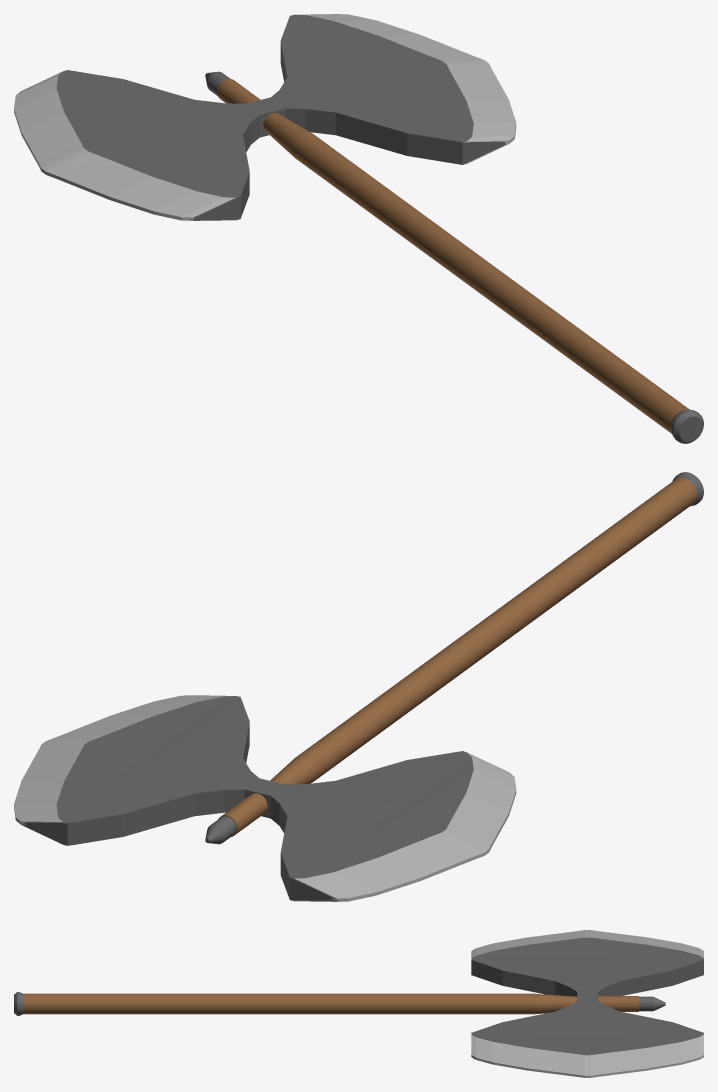
File: Axe.dae
3 views of the same model, one above another, from view 1: azimuth 30°, elevation 25°; view 2: azimuth 150°, elevation 25°; view 3: azimuth 270°, elevation 25° (orthographic). The views are drawn at different scales.
Visible parts, largest first — view 1: Cylinder; view 2: Cylinder; view 3: Cylinder.
Part boxes in pixels (x1=…): Cylinder: x1=14, y1=14, x2=703, y2=443; Cylinder: x1=14, y1=472, x2=703, y2=901; Cylinder: x1=14, y1=930, x2=703, y2=1077.
Bounding box in the file's own units: 33.78 × 67.62 × 2.33.
Materials: 1 (1 with a texture image).
